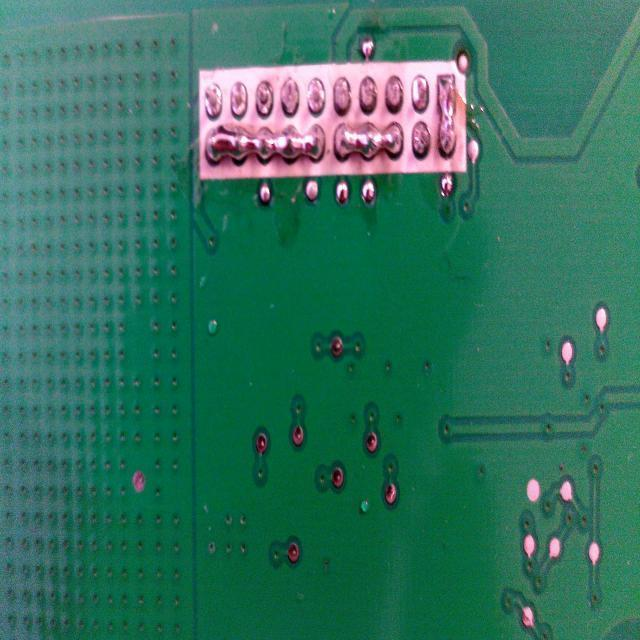Soldering shorted: (205, 121, 328, 170), (332, 120, 409, 170), (434, 71, 462, 161)
